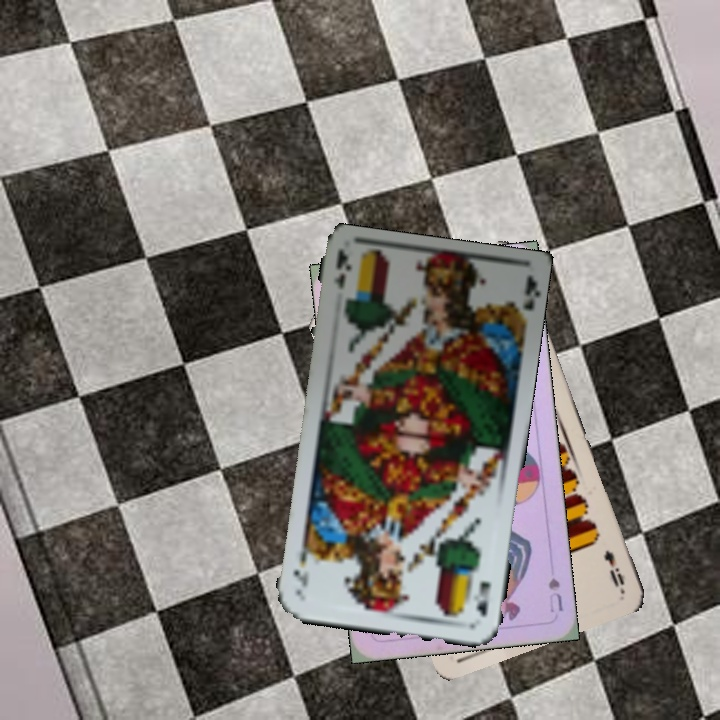E9: (600, 545, 627, 592)
EK: (330, 248, 355, 292), (472, 577, 494, 618)
SU: (544, 574, 566, 616)
